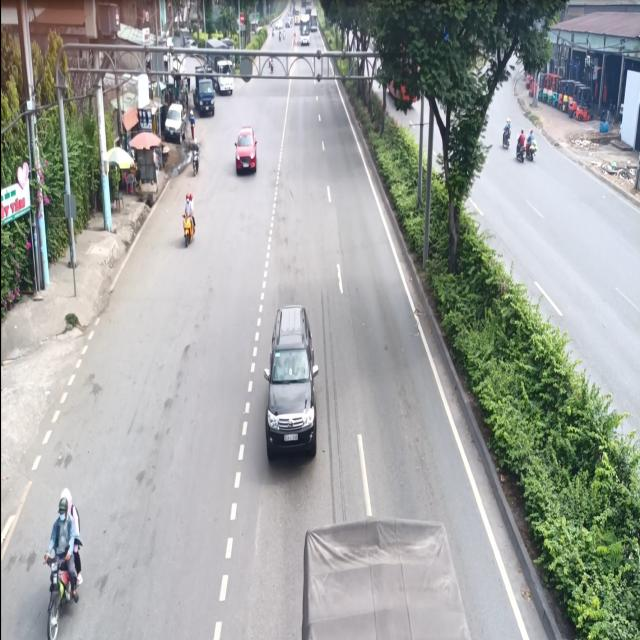car: (264, 294, 322, 471), (233, 119, 261, 182)
motor: (38, 470, 82, 640), (179, 194, 199, 253)
